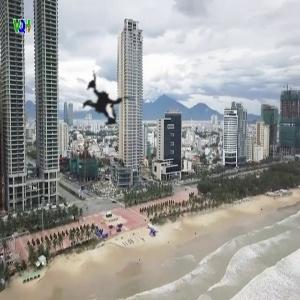drone: (45, 50, 156, 161)
